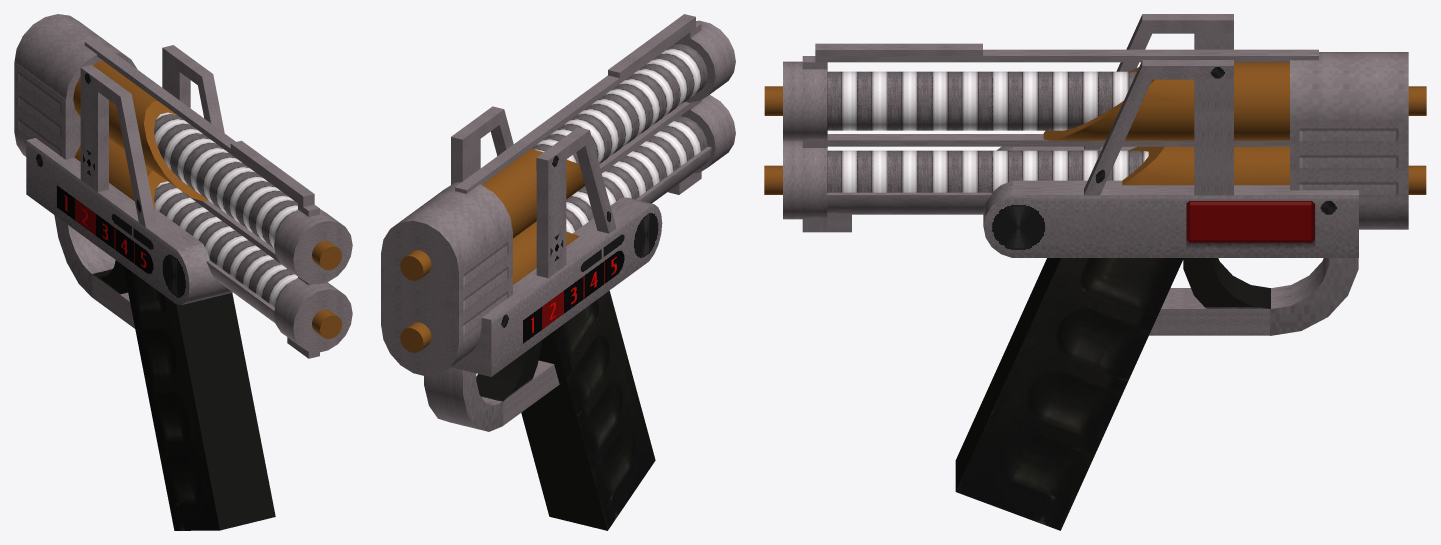
File: gun3.FBX
The picture shows the model from 3 angles, left to right: view 1: azimuth 30°, elevation 25°; view 2: azimuth 150°, elevation 25°; view 3: azimuth 270°, elevation 25°; orthographic projection. The views are drawn at different scales.
Visible parts, largest first — view 1: gun3; view 2: gun3; view 3: gun3.
Part boxes in pixels (x1=…): gun3: x1=14, y1=14, x2=352, y2=530; gun3: x1=381, y1=14, x2=735, y2=530; gun3: x1=764, y1=14, x2=1426, y2=530.
Size of the model in its own units: 12.5 by 67.02 by 53.09.
20 materials, 18 textured.
